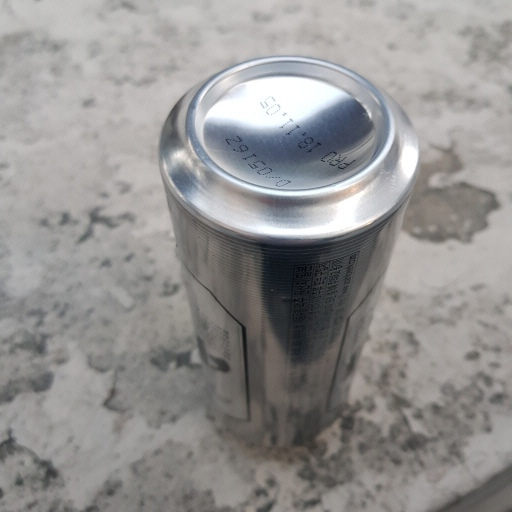Metal_0: (159, 57, 422, 453)
